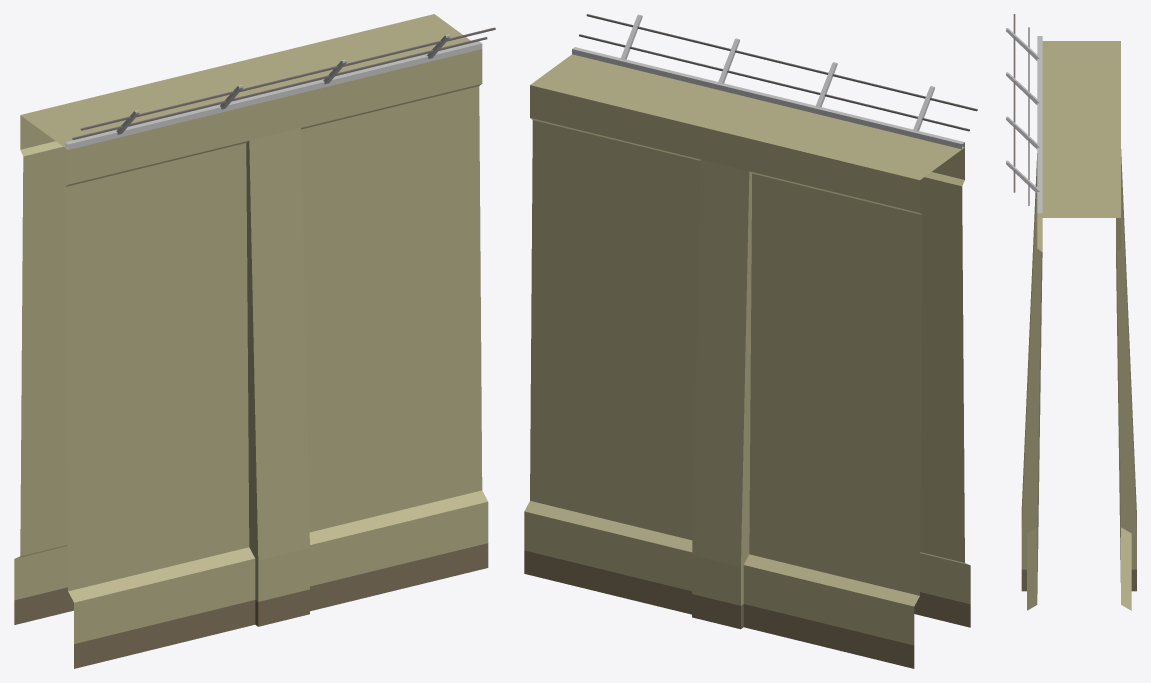
File: SM_Wall_Big_800.FBX
3 renders of one model, left to right at view 1: azimuth 30°, elevation 25°; view 2: azimuth 150°, elevation 25°; view 3: azimuth 270°, elevation 25°, orthographic. The views are drawn at different scales.
Parts seen in each view (by area): view 1: SM_Wall_Big_800; view 2: SM_Wall_Big_800; view 3: SM_Wall_Big_800.
Part boxes in pixels (box(x1,y1,x2,y2)): SM_Wall_Big_800: box(14, 14, 495, 668); SM_Wall_Big_800: box(524, 14, 977, 668); SM_Wall_Big_800: box(1006, 14, 1136, 610).
Size of the model in its own units: 800 by 250 by 1022.
